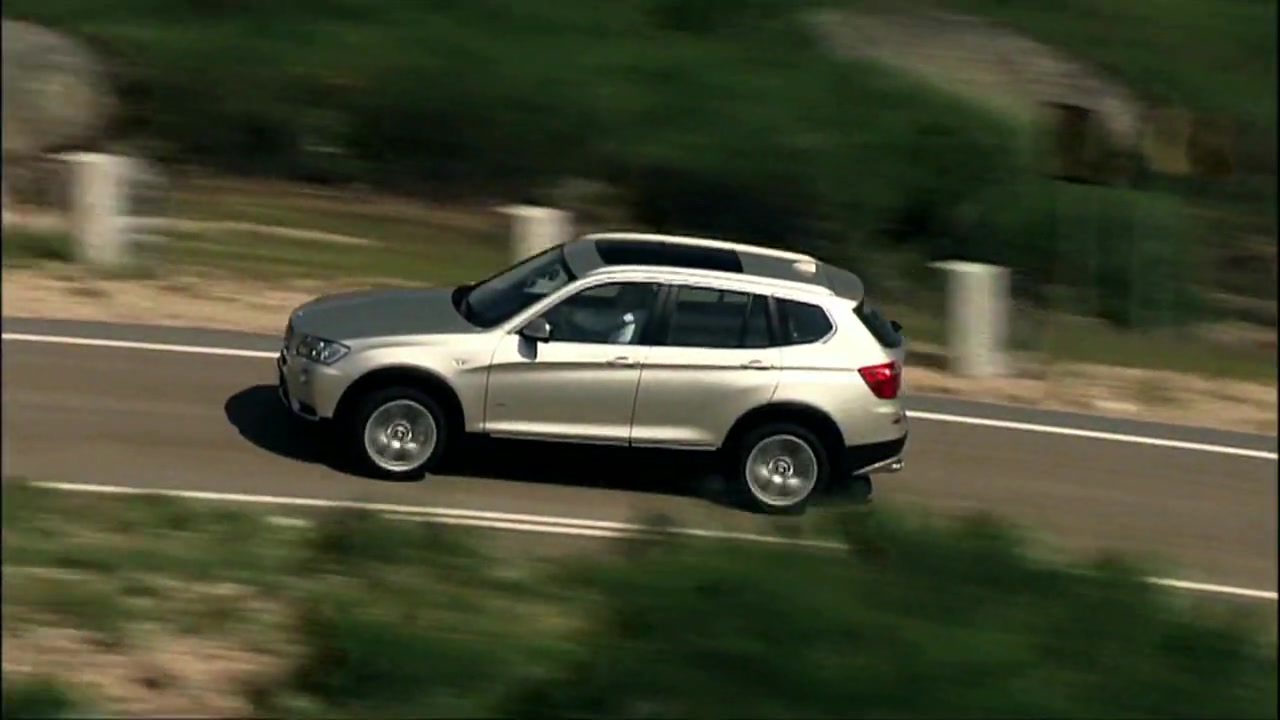car: (277, 230, 915, 519)
